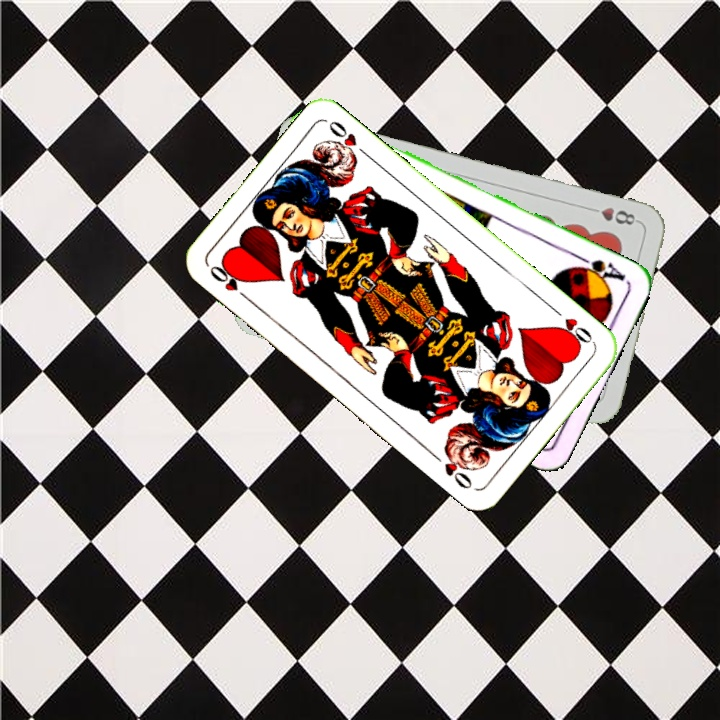H8: (584, 203, 642, 228)
HO: (548, 303, 597, 350), (205, 259, 254, 305)
SA: (569, 251, 629, 287)
